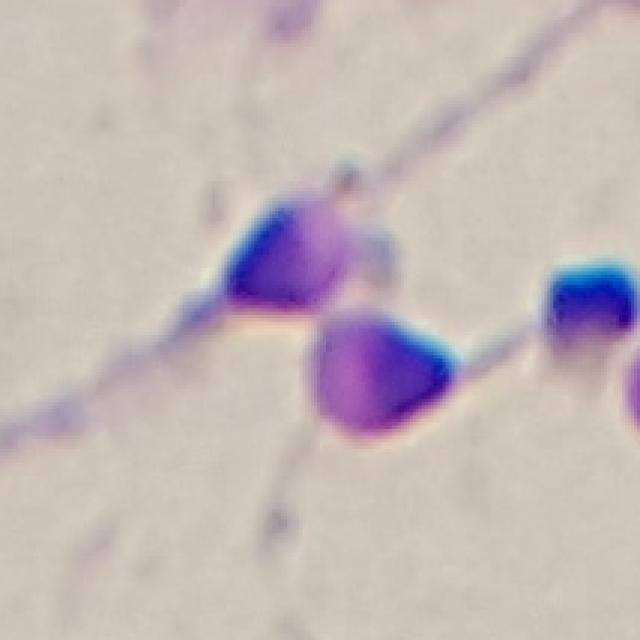normal sperm: (157, 192, 349, 356), (309, 312, 516, 441)
